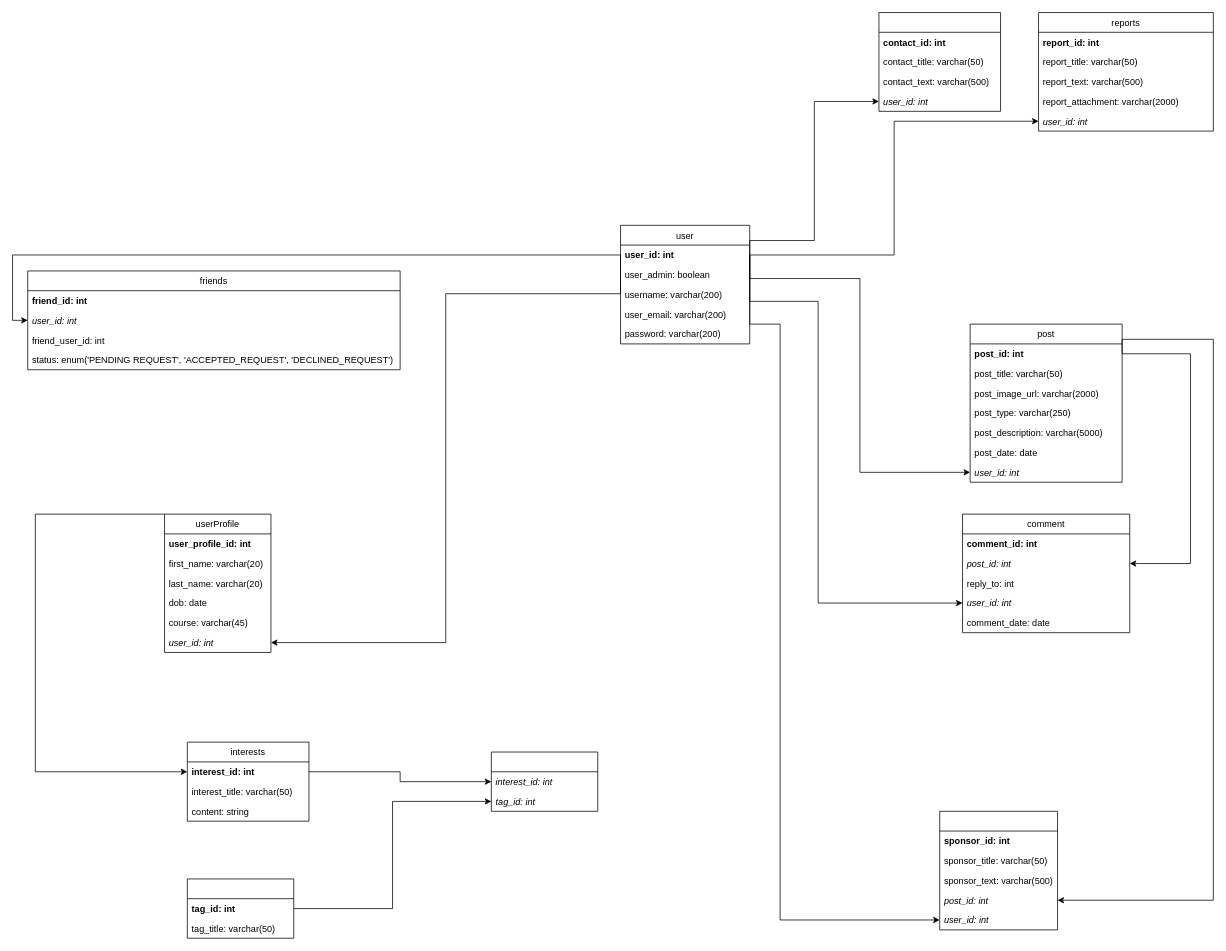
This 1226x951 diagram has some shape labels left out. The shapes that lost their labels are listed below. From the top down, each one's box as (x1, y1, x2, y2) in pixels, then its label:
(878, 12, 1001, 111): contactForm
(491, 751, 598, 811): interestTags
(939, 811, 1058, 930): sponsorships
(187, 878, 294, 938): tags
